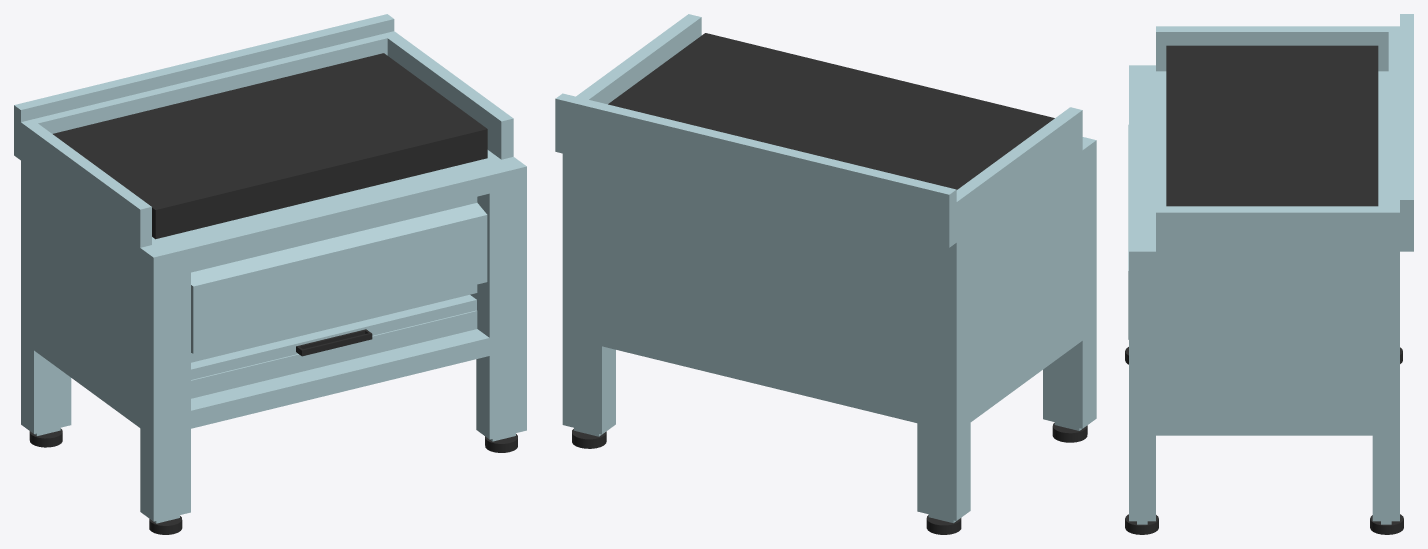
Rendered from Grill02Blue.fbx.
3 views of the same model, side by side, from view 1: azimuth 30°, elevation 25°; view 2: azimuth 150°, elevation 25°; view 3: azimuth 270°, elevation 25° (orthographic). The views are drawn at different scales.
Parts seen in each view (by area): view 1: polySurface4, polySurface1, polySurface3; view 2: polySurface4, polySurface1; view 3: polySurface4, polySurface1, pasted__pCylinder1, pasted__pasted__pCylinder1.
Boxes of the visible parts, x1,y1,x2,y2 form: polySurface4: [14, 14, 526, 523]; polySurface1: [53, 53, 487, 239]; polySurface3: [296, 329, 372, 356]; polySurface4: [555, 14, 1096, 523]; polySurface1: [608, 33, 1054, 189]; polySurface4: [1128, 14, 1413, 524]; polySurface1: [1166, 45, 1378, 206]; pasted__pCylinder1: [1125, 514, 1158, 534]; pasted__pasted__pCylinder1: [1370, 514, 1403, 534].
Bounding box in the file's own units: 1300 × 1098 × 852.
